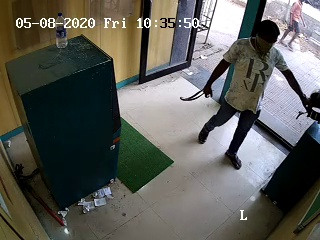open: (134, 3, 282, 135)
